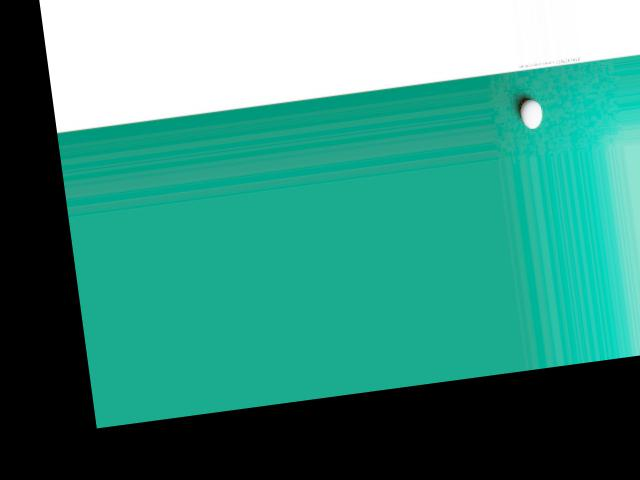egg: (520, 97, 545, 129)
